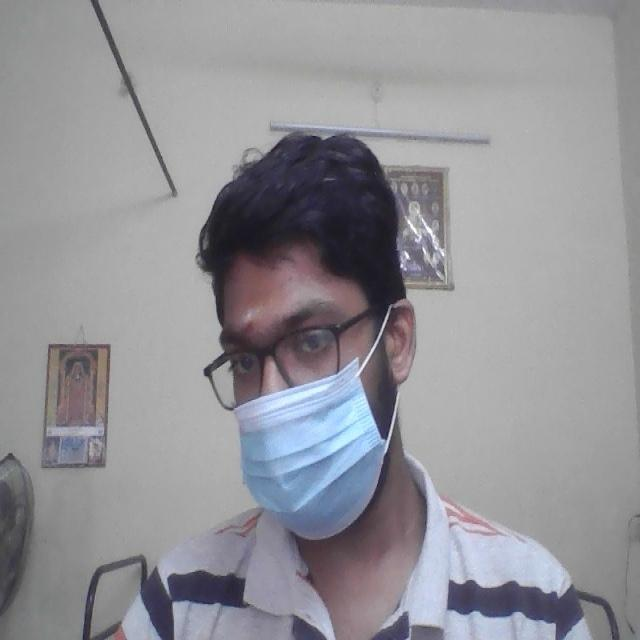Focused: (196, 281, 360, 493)
